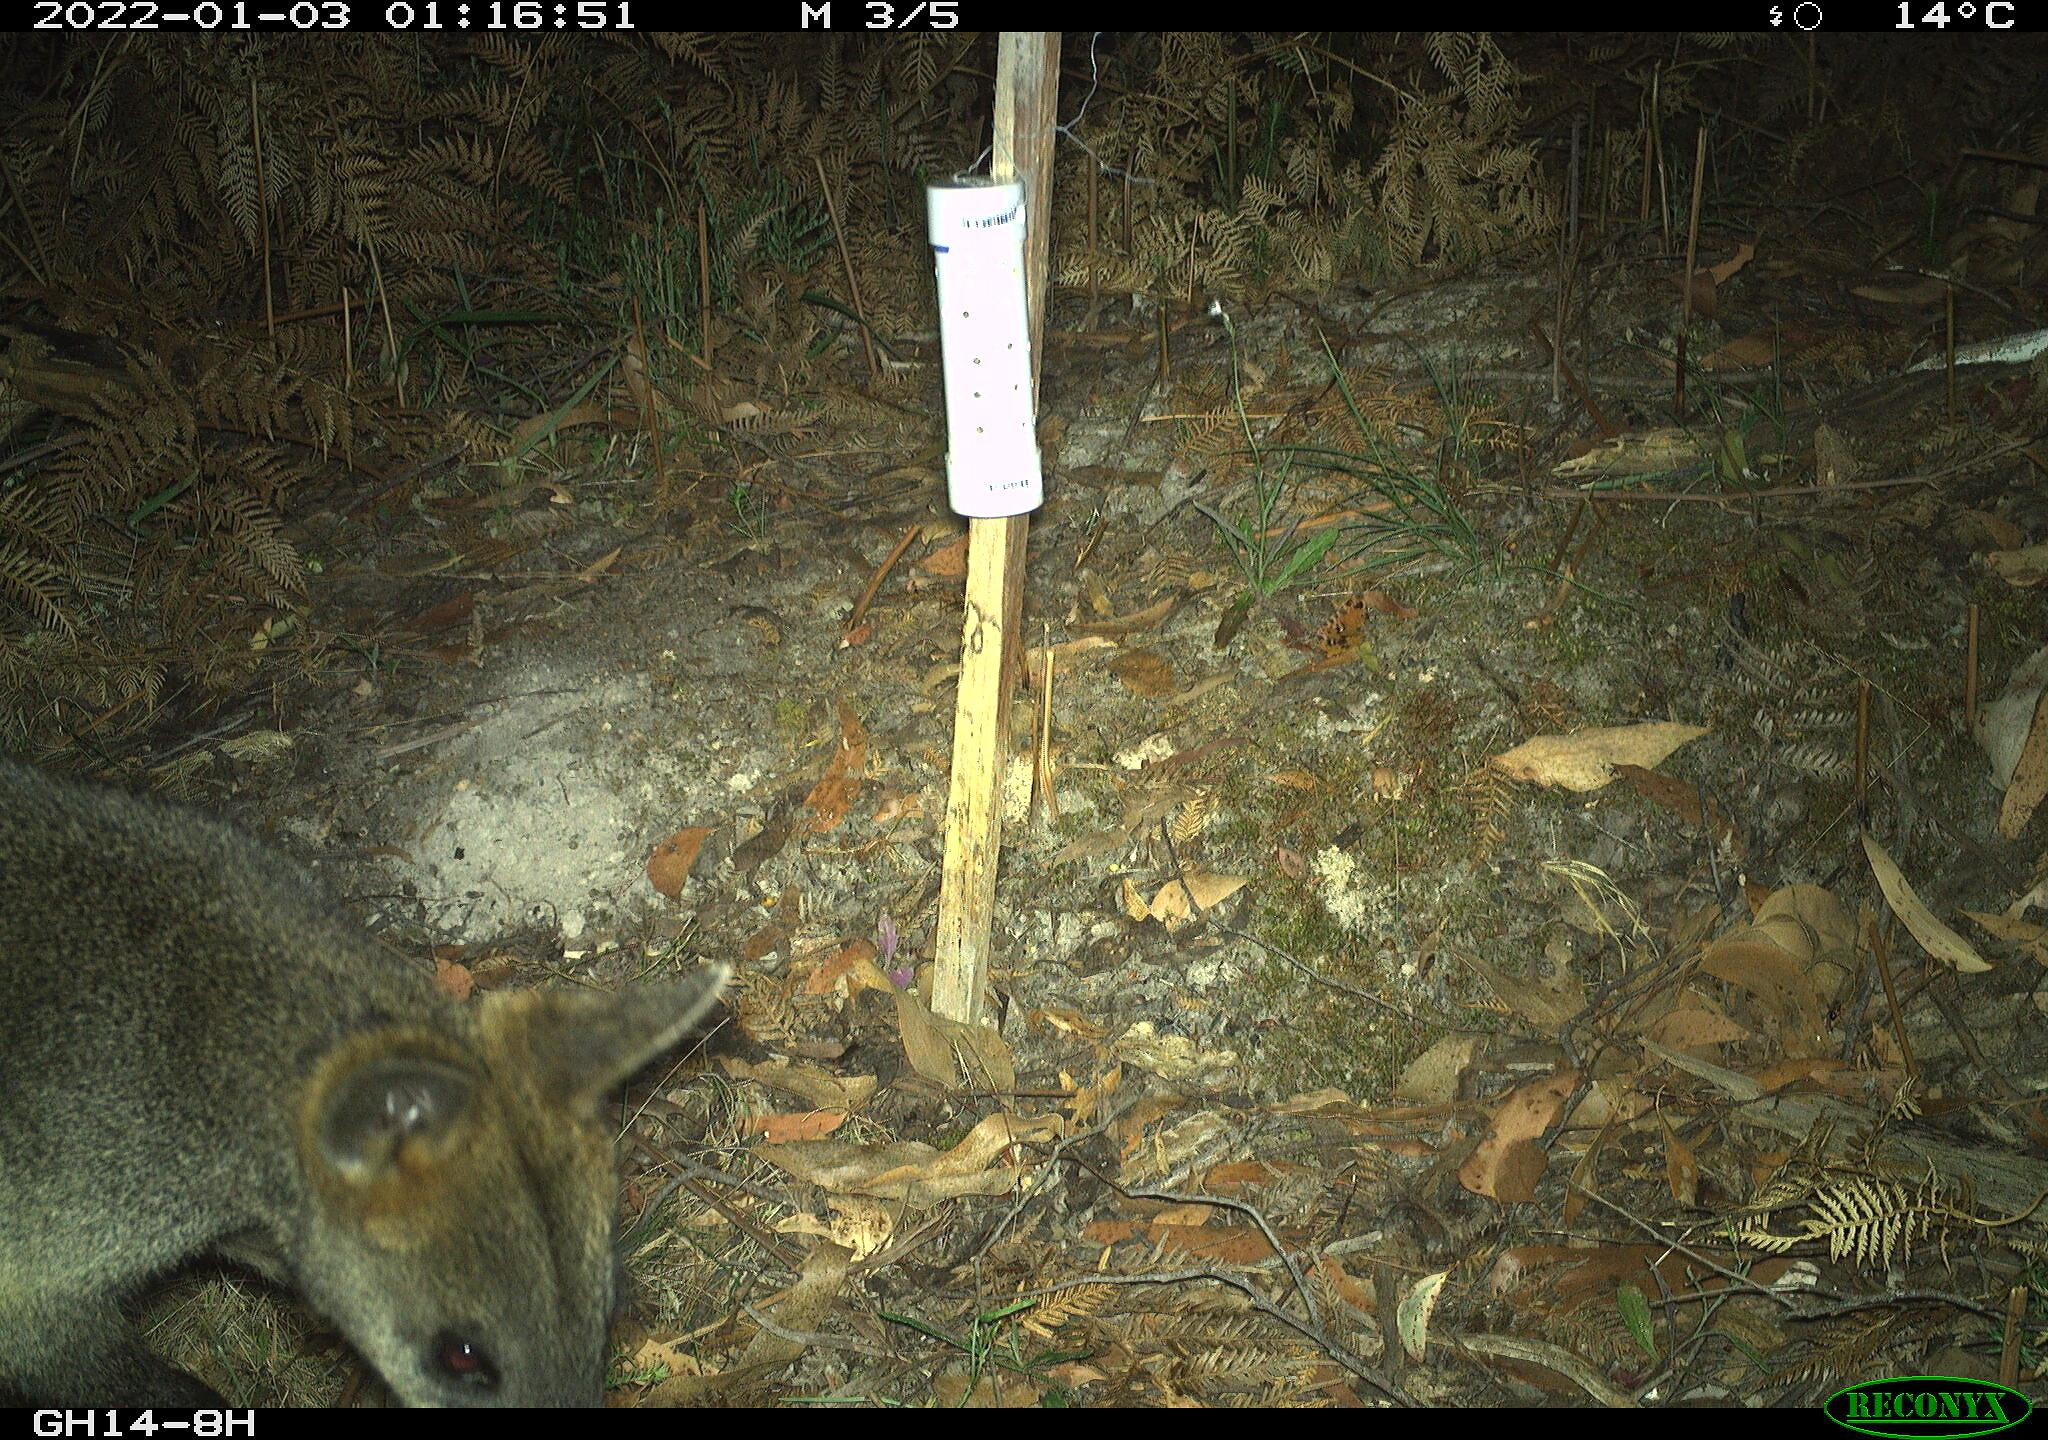Swamp wallaby: (0, 775, 729, 1406)
